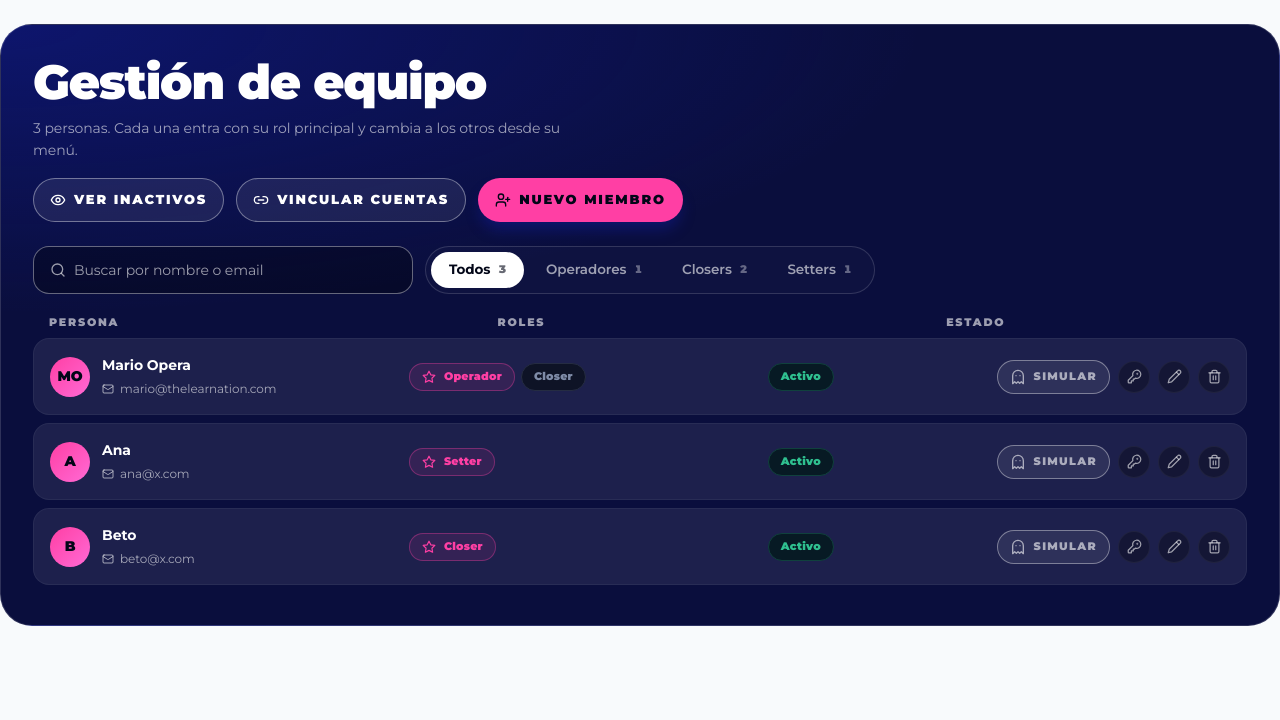
Test case: TeamManagementPage · pestañas por rol › una persona con varios roles aparece en la pestaña de cada uno
The image size is (1280, 720).
Click the tab "Closers 2".
click(715, 270)  # box 664,252 -> 765,288
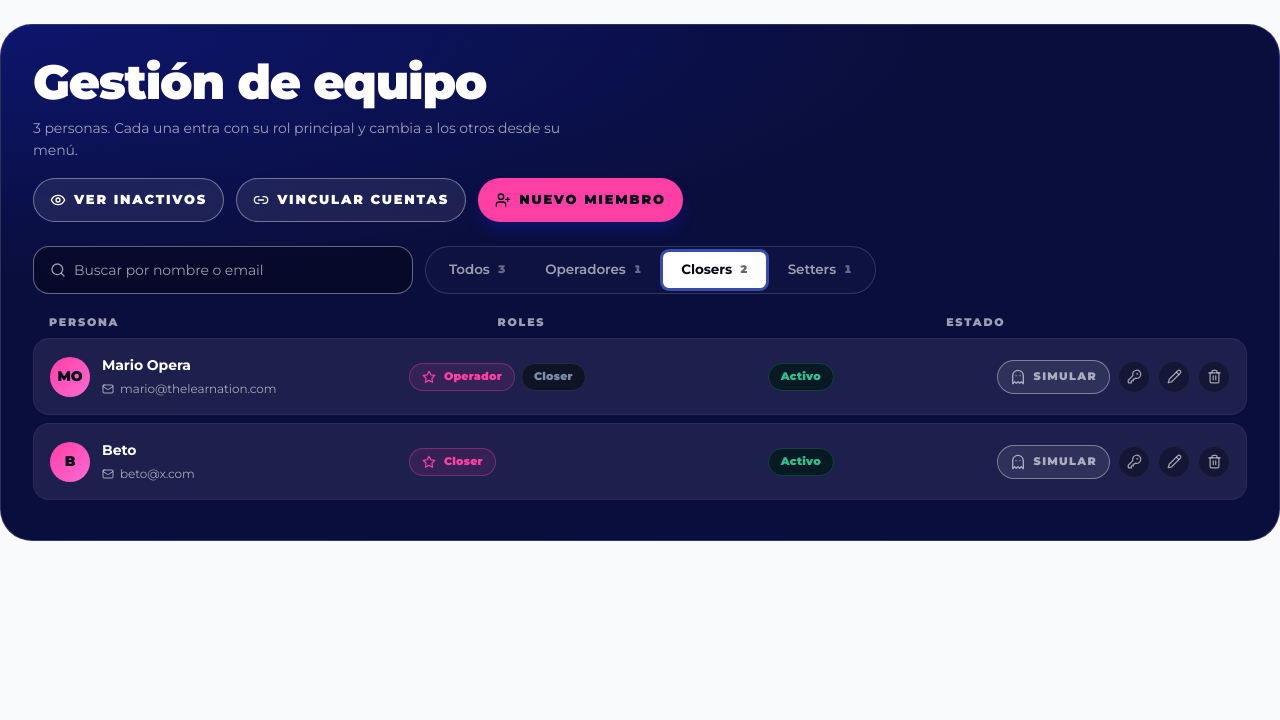
Expected: the text "Mario Opera" is shown, 102,356 -> 191,374
Expected: the text "Ana" is gone
